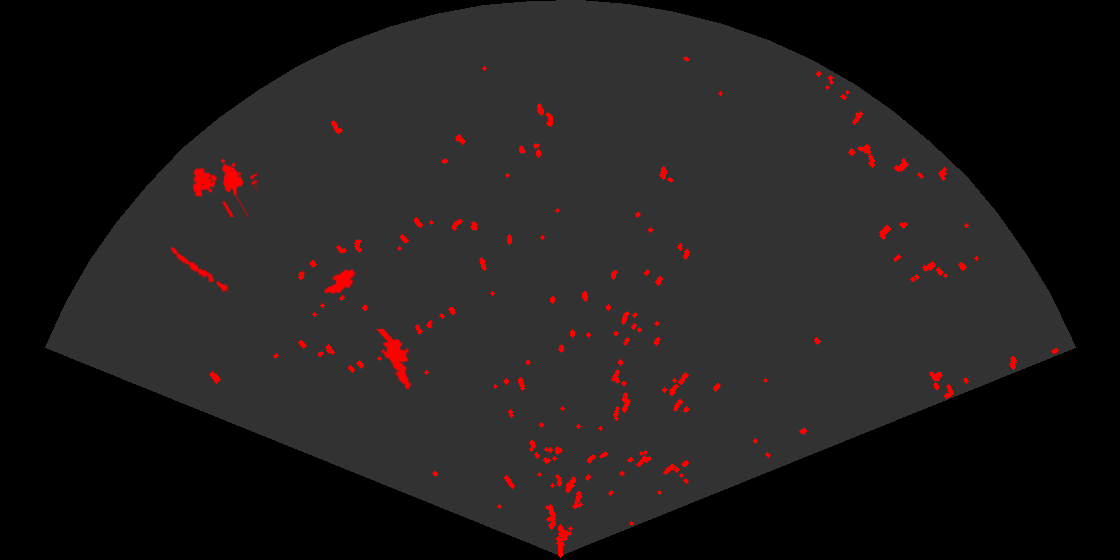AUV: (322, 268, 357, 296)
cage: (191, 157, 257, 217)
chain: (161, 242, 232, 296)
frogman: (375, 329, 412, 391)
